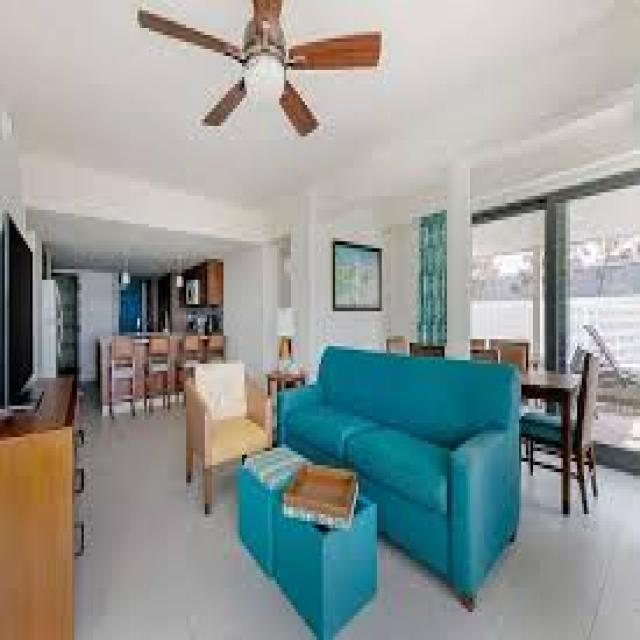Chair: (180, 358, 278, 479)
Sofa: (281, 349, 525, 586)
tv: (3, 211, 42, 414)
window: (469, 209, 639, 375)
